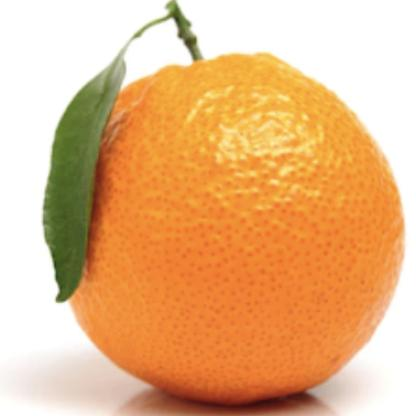fresh: (55, 52, 405, 412)
